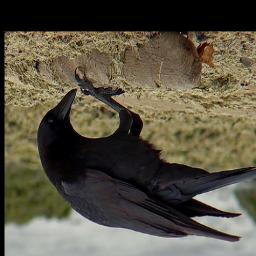Crow: (36, 66, 256, 242)
